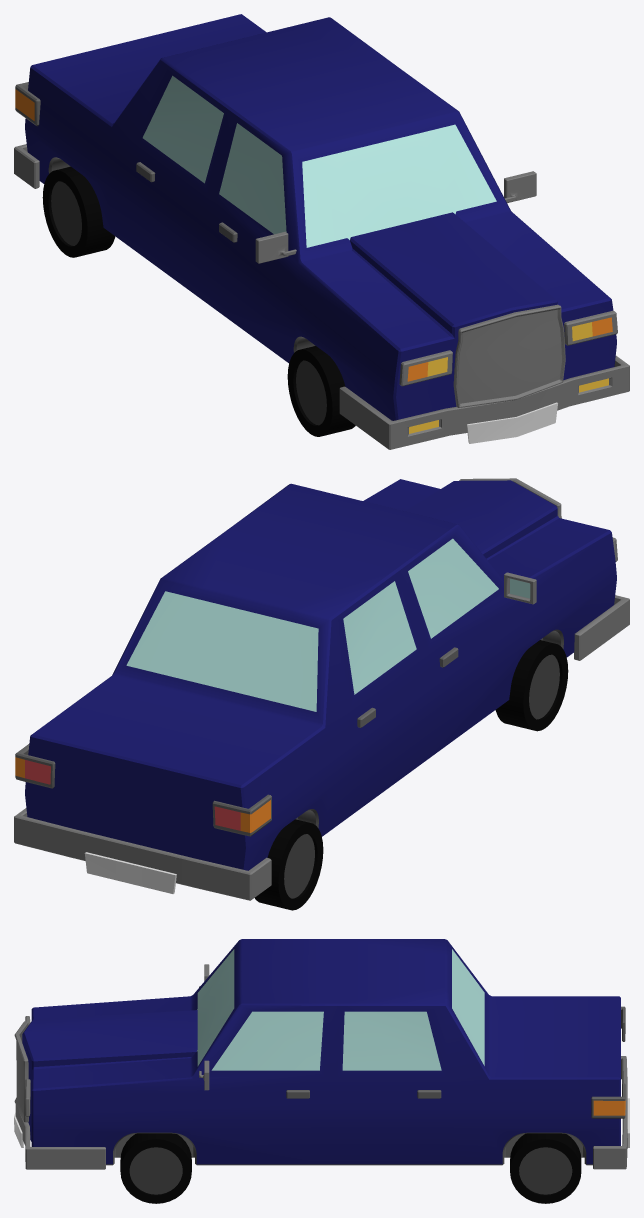
Rendered from bluBart.fbx.
3 renders of one model, top to bottom at view 1: azimuth 30°, elevation 25°; view 2: azimuth 150°, elevation 25°; view 3: azimuth 270°, elevation 25°, orthographic. The views are drawn at different scales.
Visible parts, largest first — view 1: BlueRanger; view 2: BlueRanger; view 3: BlueRanger.
Boxes of the visible parts, x1,y1,x2,y2 form: BlueRanger: (14, 14, 629, 449); BlueRanger: (14, 478, 629, 910); BlueRanger: (14, 939, 629, 1203).
Size of the model in its own units: 264 by 213 by 636.
